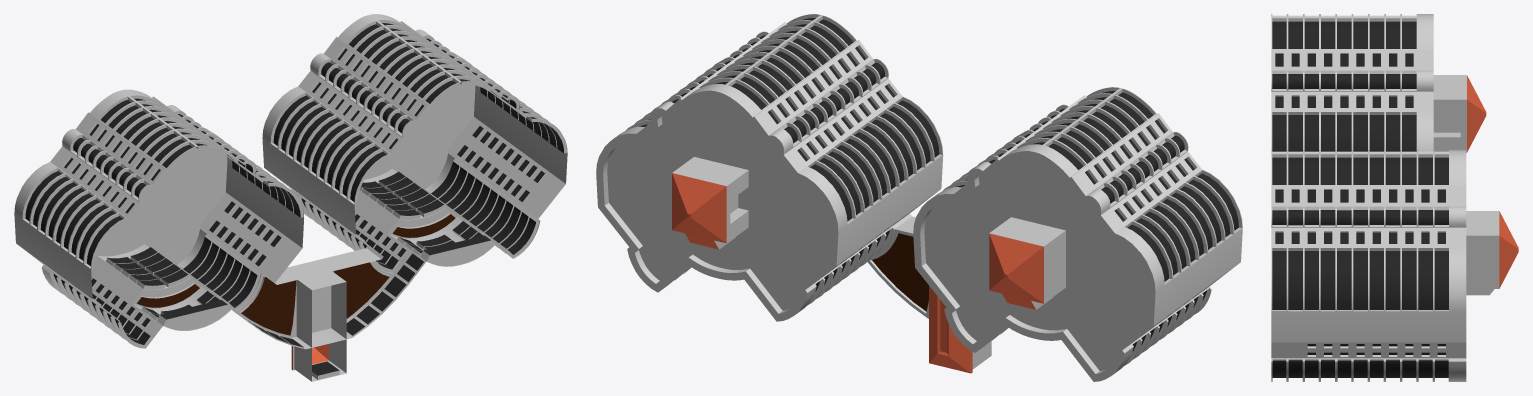
The model's file is Soverein on the Goldcoast.fbx.
3 renders of one model, left to right at view 1: azimuth 30°, elevation 25°; view 2: azimuth 150°, elevation 25°; view 3: azimuth 270°, elevation 25°, orthographic. The views are drawn at different scales.
Parts seen in each view (by area): view 1: Cube.001; view 2: Cube.001; view 3: Cube.001.
Boxes of the visible parts, box(x1,y1,x2,y2) form: Cube.001: box(14, 14, 567, 381); Cube.001: box(596, 14, 1242, 381); Cube.001: box(1271, 14, 1518, 381).
Size of the model in its own units: 85.76 by 45.49 by 36.45.
